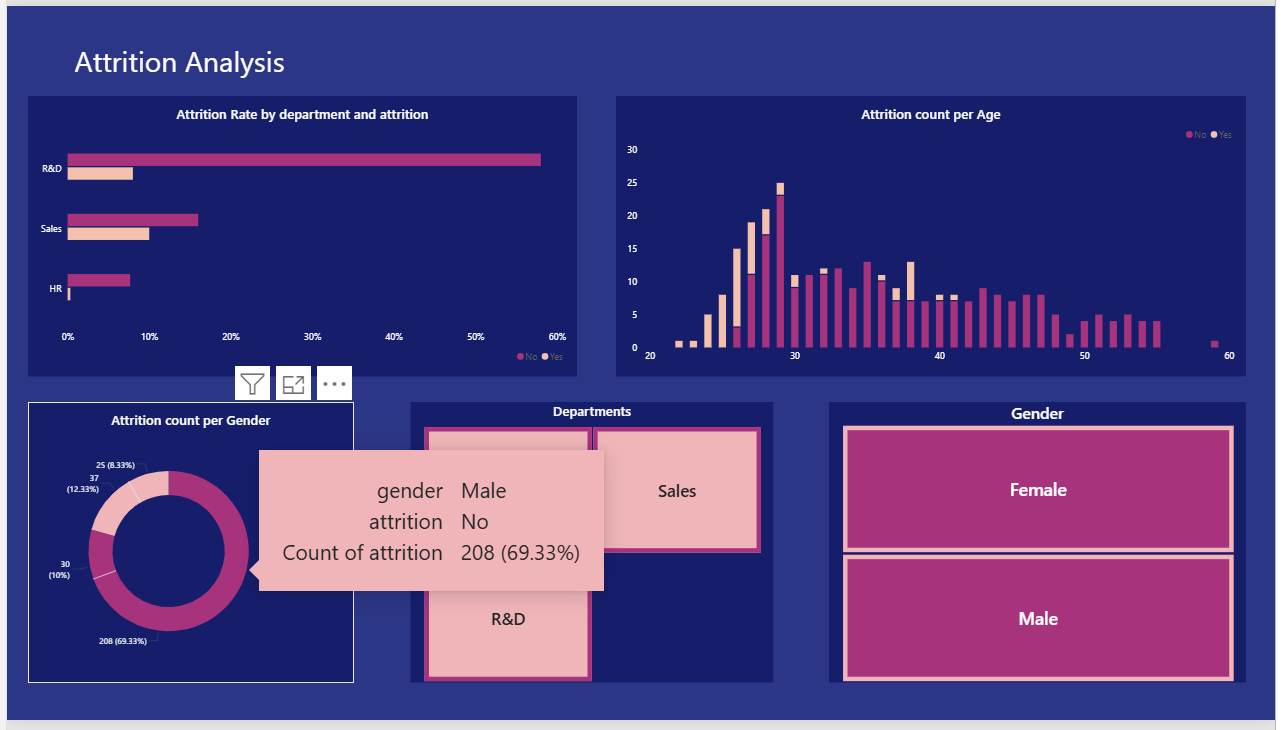

Layout of this report page (visuals, bound fields, positions):
{"tool":"powerbi","page":{"name":"Page 2","canvas":[1920,1080],"ordinal":1},"visuals":[{"type":"clusteredBarChart","fields":{"Category":["attrition.department"],"Y":["Divide(CountNonNull(attrition.attrition), ScopedEval(CountNonNull(attrition.attrition), []))"],"Series":["attrition.attrition"]},"box":[31.8,136.3,831.3,424.7],"z":0},{"type":"columnChart","title":"Attrition count per Age","fields":{"Series":["attrition.attrition"],"Category":["attrition.age"],"Y":["CountNonNull(attrition.attrition)"]},"box":[922.2,136.3,953.9,424.7],"z":1000},{"type":"donutChart","title":"Attrition count per Gender","fields":{"Category":["attrition.gender"],"Y":["CountNonNull(attrition.attrition)"],"Series":["attrition.attrition"]},"box":[31.8,599.6,492.9,424.7],"z":2000},{"type":"slicer","title":"Departments","fields":{"Values":["attrition.department"]},"box":[611,599.6,549.7,424.7],"z":3000},{"type":"slicer","title":"Gender","fields":{"Values":["attrition.gender"]},"box":[1244.7,599.6,631.4,424.7],"z":4000},{"type":"textbox","box":[31.8,54.5,994.8,106.8],"z":5000},{"type":"textbox","box":[102.2,54.5,958.5,106.8],"z":6000}]}

Visuals, with their boxes in screenshot pixels (x1, y1, x2, y2), scaled from the page's 1920x1080 canvas onto the 1285x730 screenshot:
clusteredBarChart - attrition.department x Divide(CountNonNull(attrition.attrition), ScopedEval(CountNonNull(attrition.attrition), [])): bbox=(21, 92, 578, 379)
"Attrition count per Age" columnChart: bbox=(617, 92, 1256, 379)
"Attrition count per Gender" donutChart: bbox=(21, 405, 351, 692)
"Departments" slicer: bbox=(409, 405, 777, 692)
"Gender" slicer: bbox=(833, 405, 1256, 692)
textbox: bbox=(21, 37, 687, 109)
textbox: bbox=(68, 37, 710, 109)
